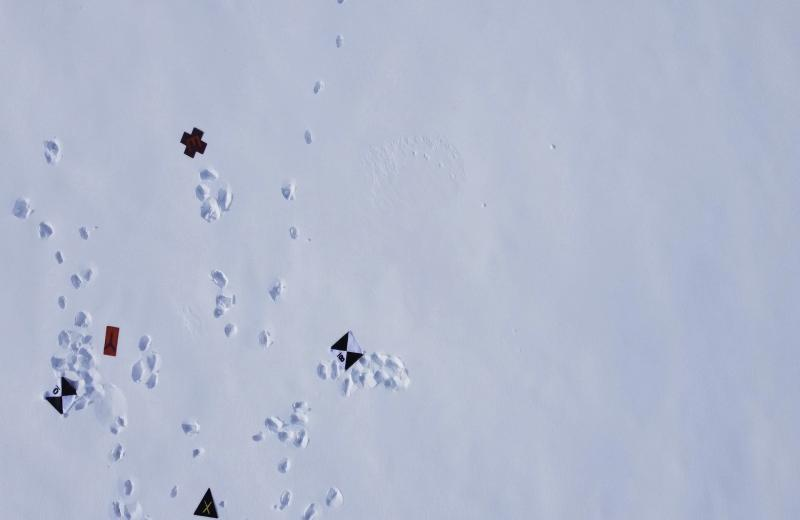Cross: (179, 126, 210, 160)
Rectangle: (99, 324, 123, 361)
Triangle: (193, 486, 221, 519)
